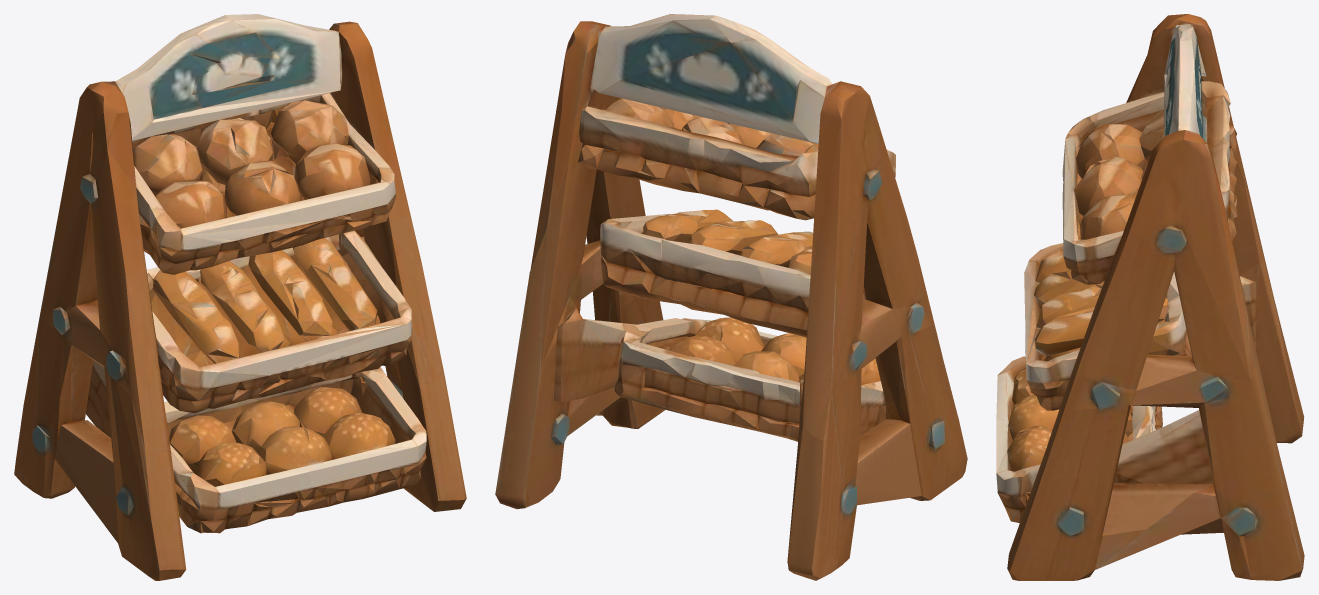
File: breadStand.glb
3 renders of one model, left to right at view 1: azimuth 30°, elevation 25°; view 2: azimuth 150°, elevation 25°; view 3: azimuth 270°, elevation 25°, orthographic. The views are drawn at different scales.
Visible parts, largest first — view 1: Mesh_0; view 2: Mesh_0; view 3: Mesh_0.
Part boxes in pixels (x1,y1,x2,y2): Mesh_0: (14,14,466,580); Mesh_0: (495,14,967,580); Mesh_0: (996,14,1304,580).
Bounding box in the file's own units: 0.7771 × 1.09 × 0.6499.
1 material, 1 textured.
